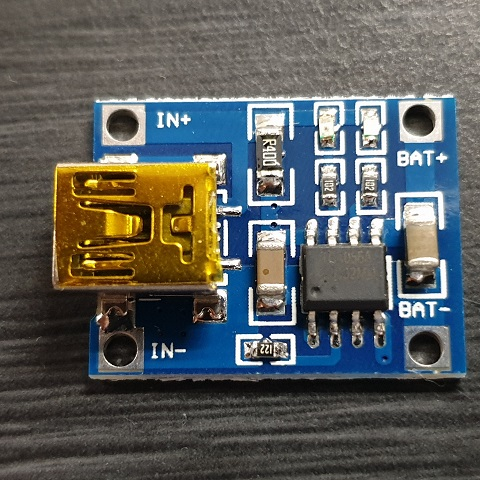batt+: (400, 102, 440, 146)
batt-: (412, 326, 450, 370)
charge: (309, 102, 340, 156)
done: (348, 99, 370, 150)
rprog: (236, 338, 292, 362)
usb: (50, 164, 220, 294)
